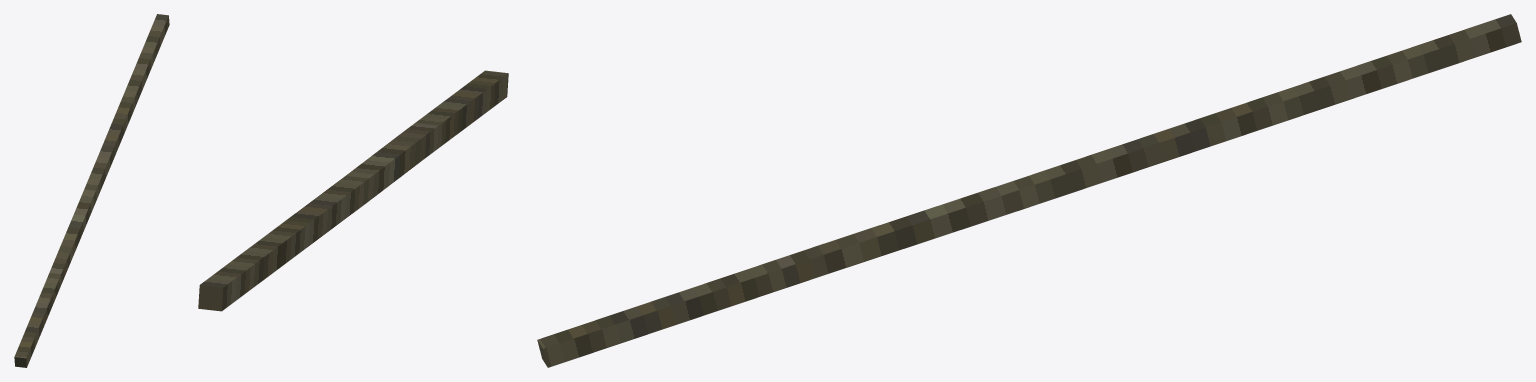
File: rope_3wide_diag.obj
3 views of the same model, side by side, from view 1: azimuth 30°, elevation 25°; view 2: azimuth 210°, elevation 25°; view 3: azimuth 330°, elevation 25° (orthographic). The views are drawn at different scales.
Visible parts, largest first — view 1: cube; view 2: cube; view 3: cube.
Part boxes in pixels (left/top/right/bottom): cube: left=14, top=14, right=169, bottom=367; cube: left=198, top=70, right=508, bottom=311; cube: left=537, top=14, right=1521, bottom=367.
Bounding box in the file's own units: 3.08 × 1.09 × 3.08.
